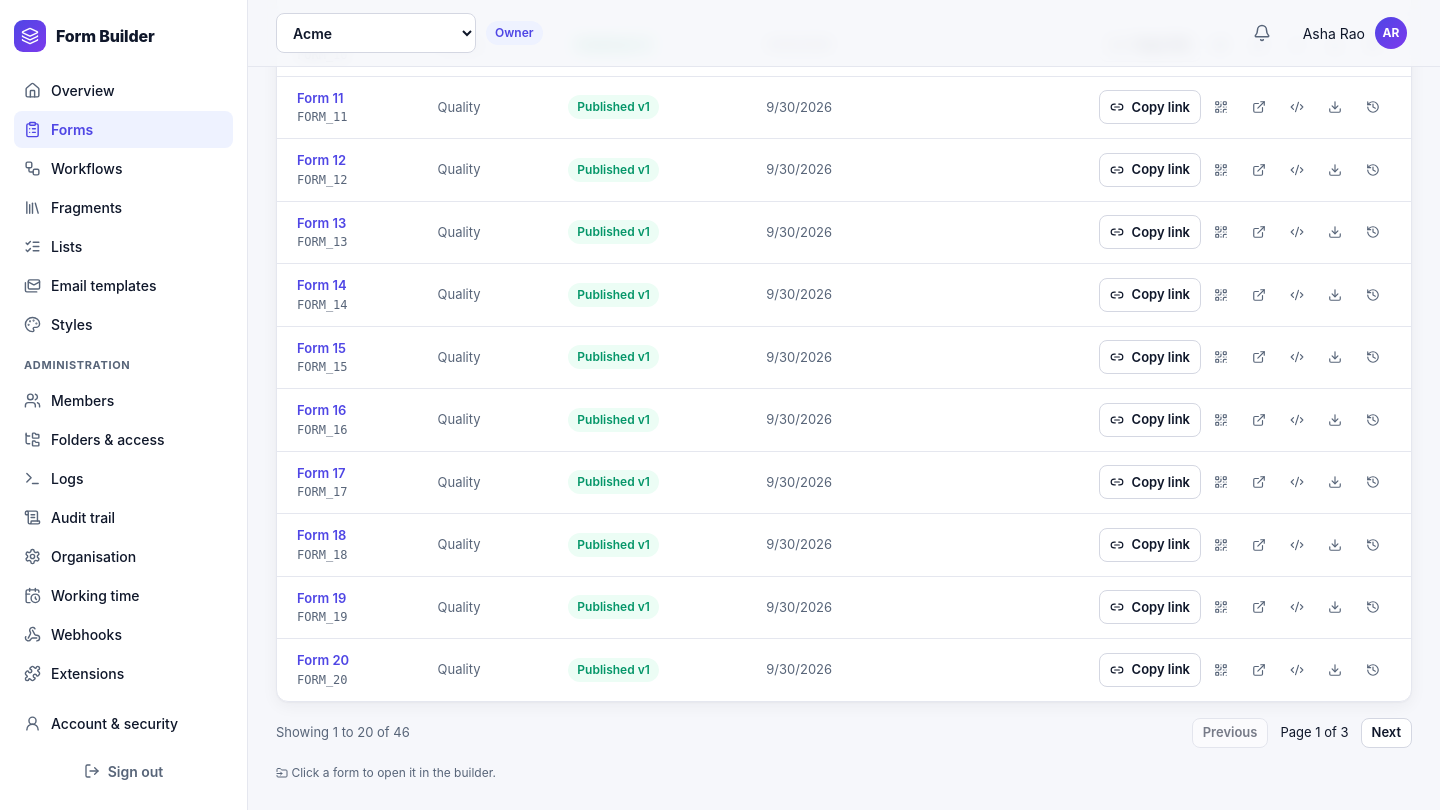
studio › forms: a long list is shown a page at a time, and a form is found by typing part of its name
(page scrolled)
expect the navigation bar named "Pages of forms" shows "Showing 1 to 20 of 46": met, box [276, 718, 1412, 748]
expect the button "Previous" is disabled: met, box [1192, 718, 1268, 748]
Click the button "Next" at (1386, 732), box [1360, 718, 1412, 748]
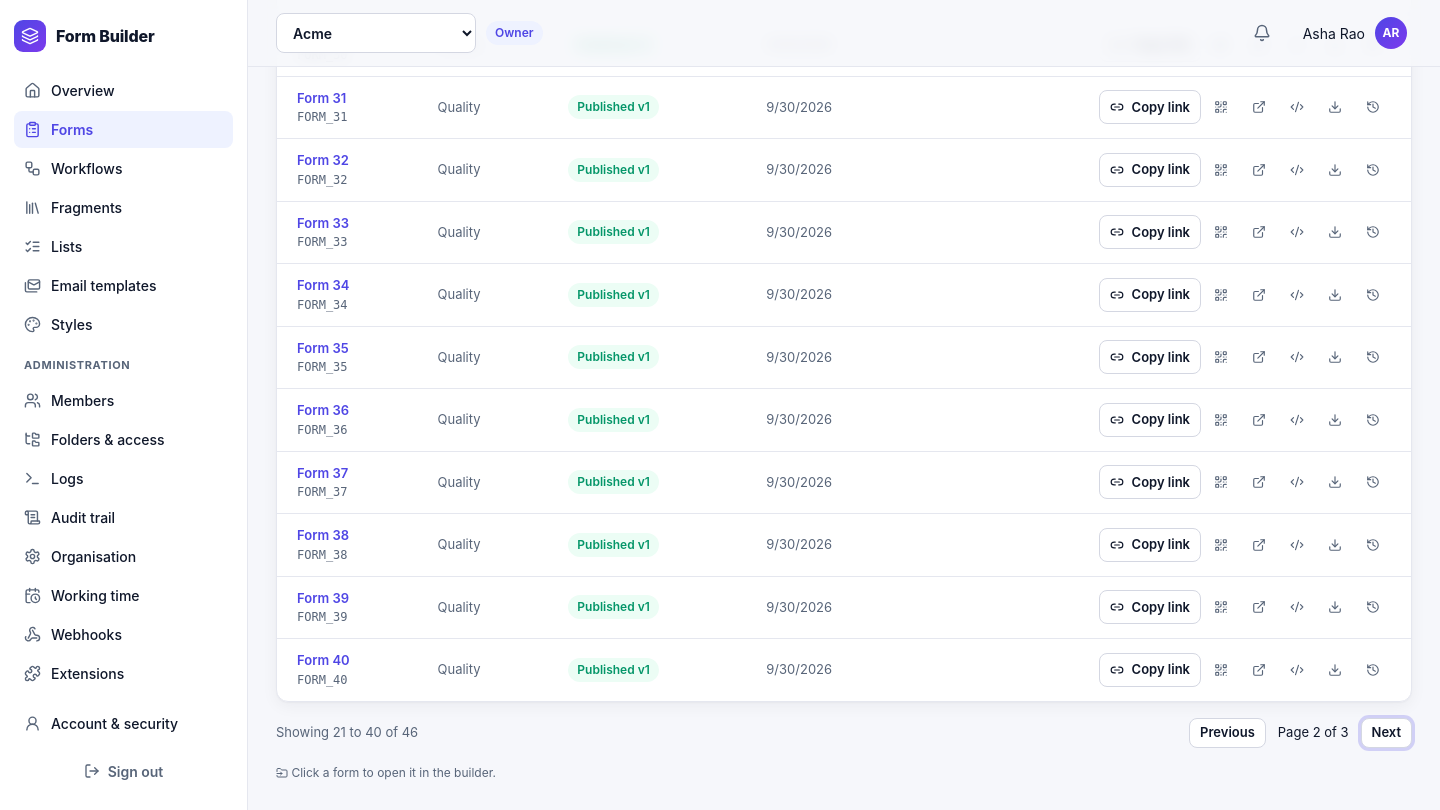
expect the navigation bar named "Pages of forms" shows "Page 2 of 3": met, box [276, 718, 1412, 748]
Click the button "Next" at (1386, 732), box [1360, 718, 1412, 748]
(page scrolled)
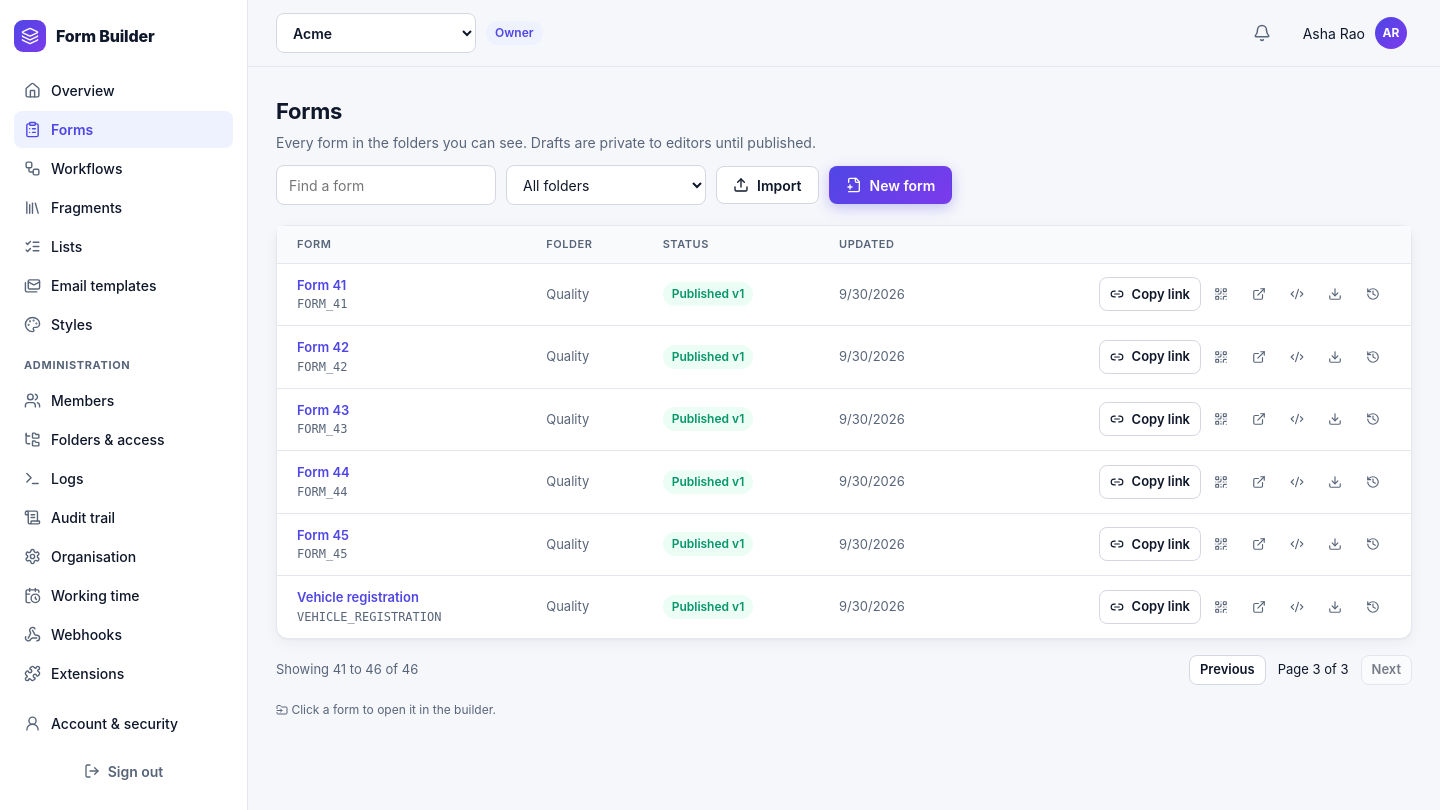
expect the navigation bar named "Pages of forms" shows "Showing 41 to 46 of 46": met, box [276, 654, 1412, 684]
expect the button "Next" is disabled: met, box [1360, 654, 1412, 684]
# Searching goes back to the first page, and looks at the code as well as the name.
Type "vehicle reg" into the search field labelled "Find a form" at (386, 185), box [276, 165, 496, 205]
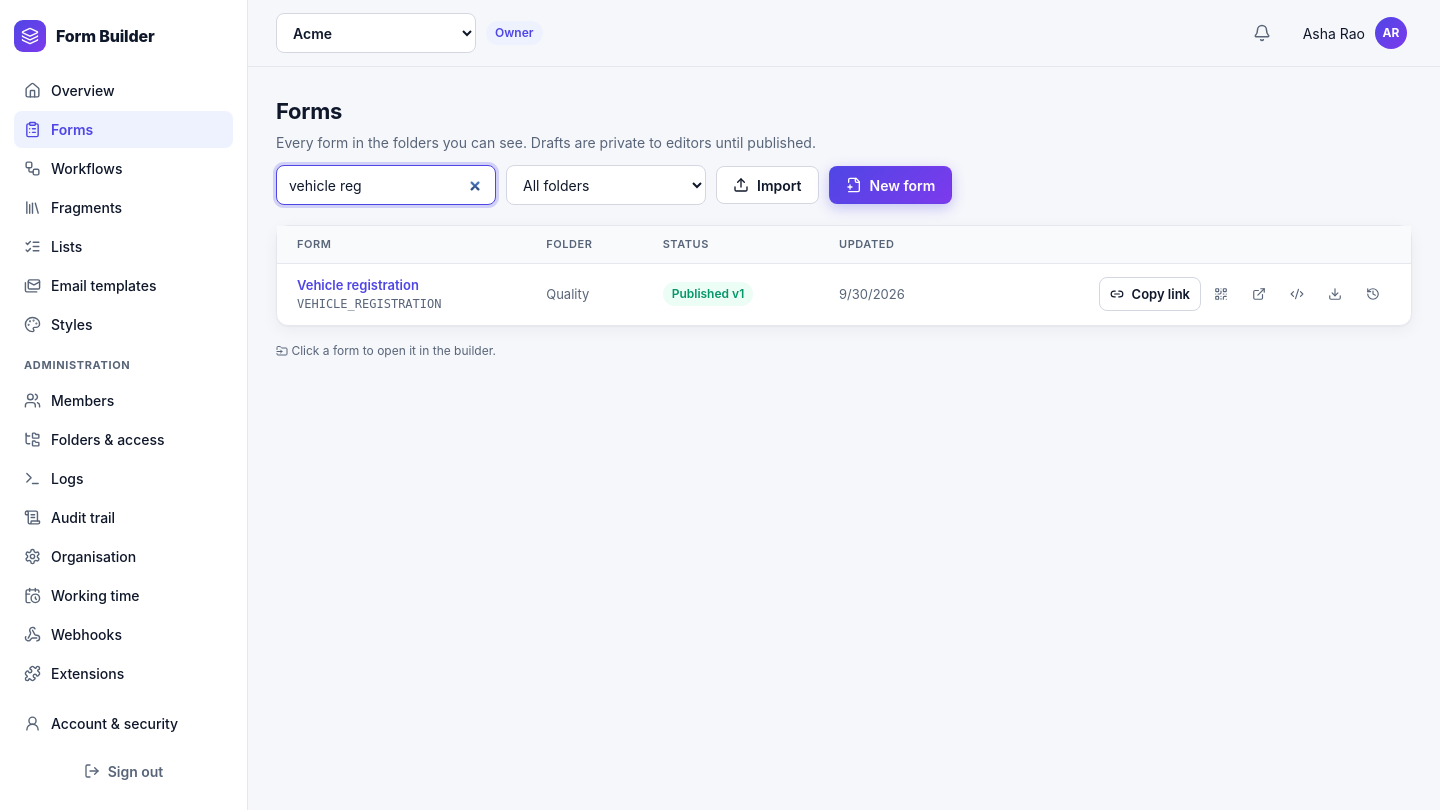
expect the link "Vehicle registration" is shown: met, box [297, 276, 419, 292]
expect the number of rows is 2: met, box [277, 226, 1411, 263]; [277, 263, 1411, 325]
Replace the text in the search field named "Find a form" with "nothing like this" at (386, 185), box [276, 165, 496, 205]
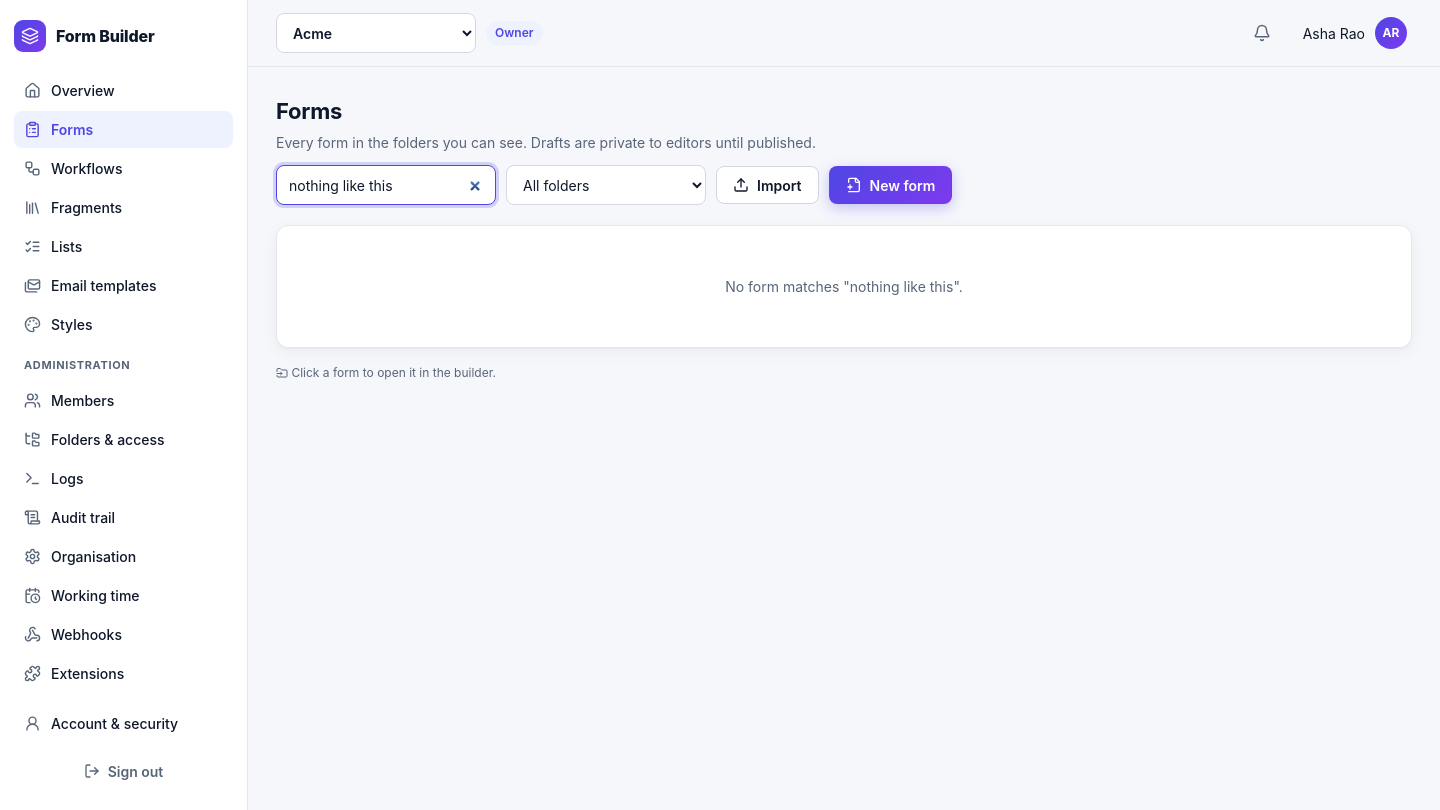
expect the text "No form matches \"nothing like this\"." is shown: met, box [725, 278, 963, 295]
